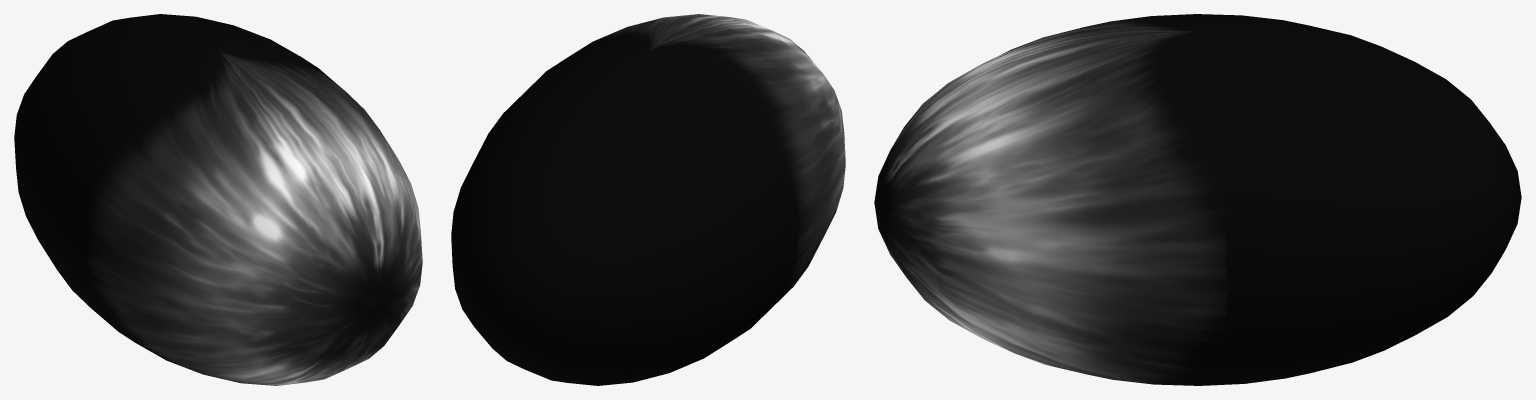
File: bahamut_surge.obj
3 renders of one model, left to right at view 1: azimuth 30°, elevation 25°; view 2: azimuth 150°, elevation 25°; view 3: azimuth 270°, elevation 25°, orthographic. The views are drawn at different scales.
Bounding box in the file's own units: 5.61 × 5.61 × 9.76.
1 material, 1 textured.
